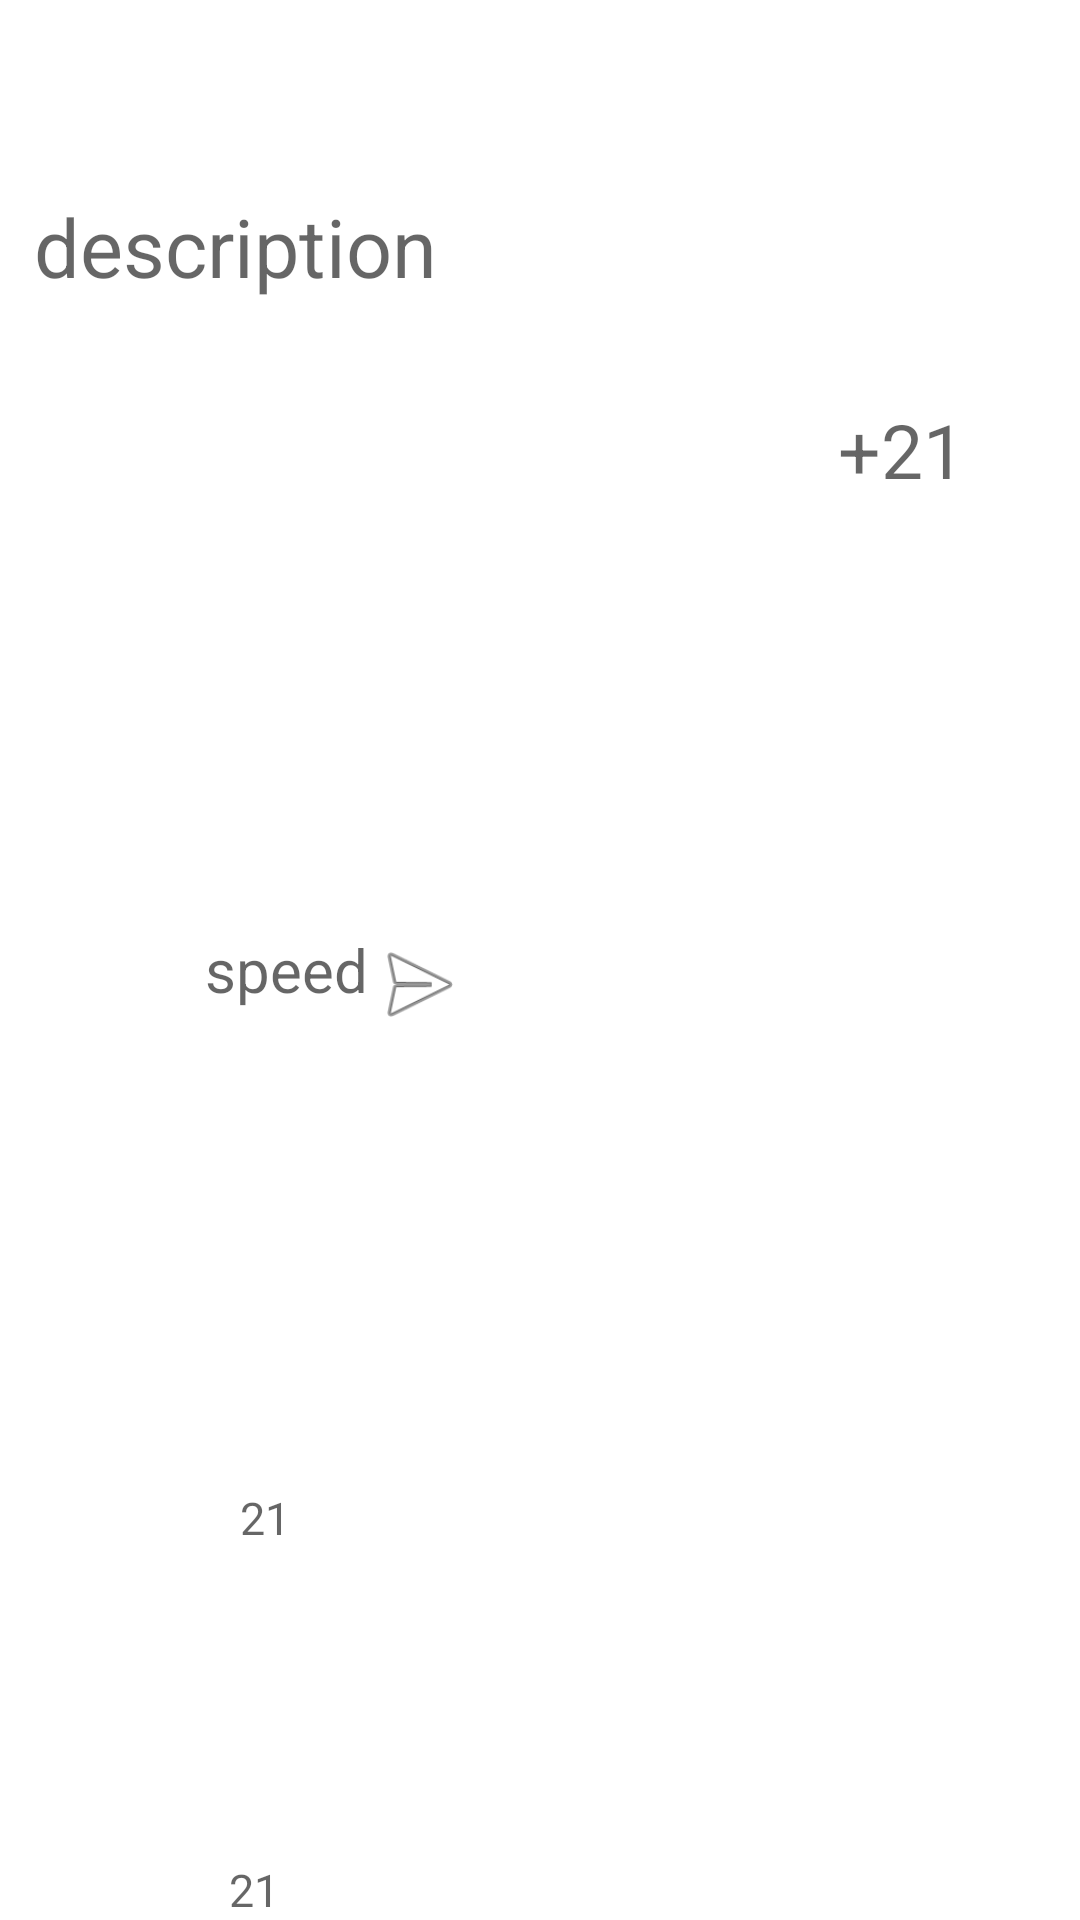

Point at icon controls on the screen. Image size 1080px x 1920px, points as (x=x, y=y).
send: (x=420, y=984)
